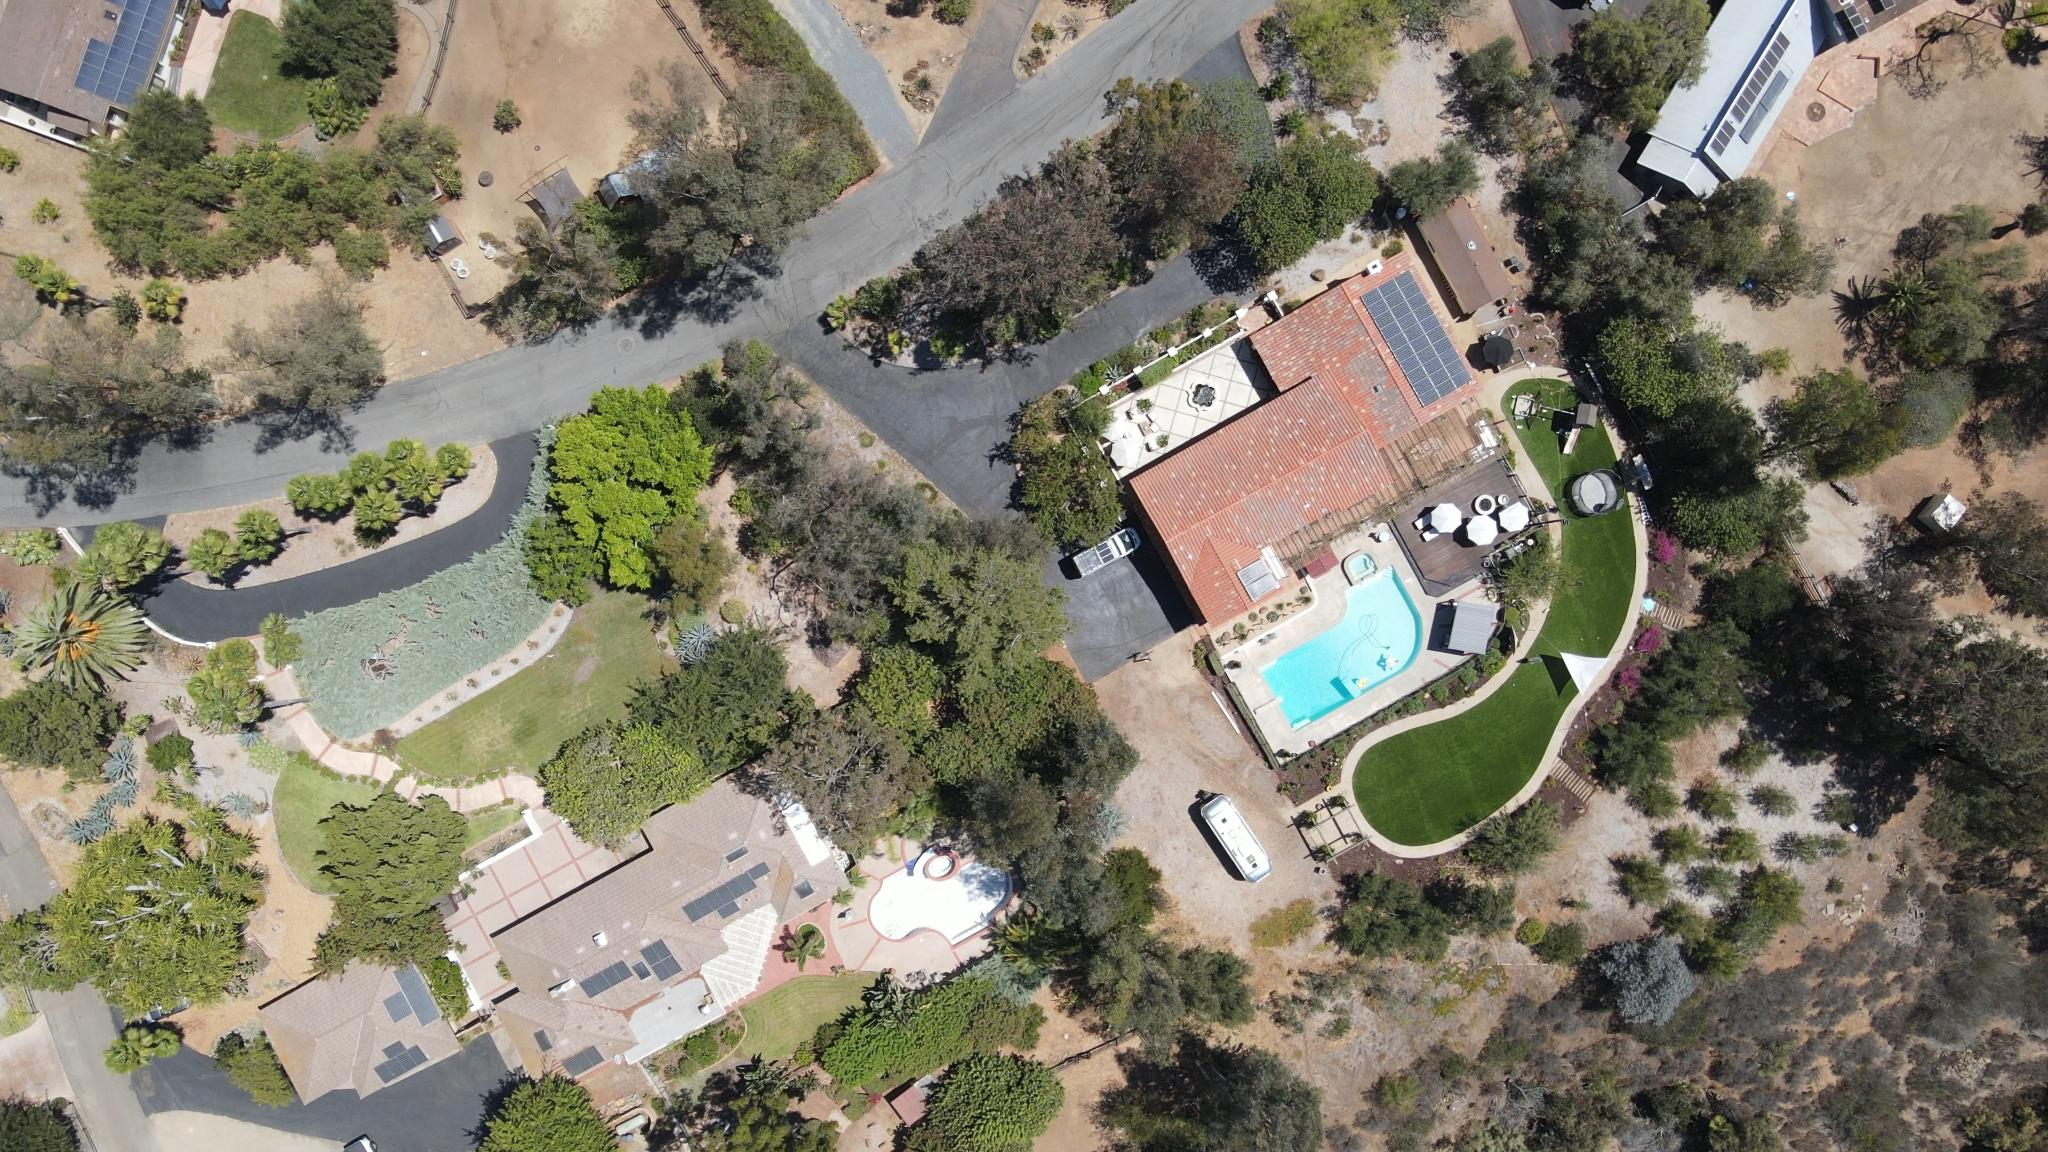solar-panels: (1359, 267, 1473, 408), (72, 0, 176, 111), (1730, 31, 1791, 125), (681, 861, 771, 924), (381, 961, 443, 1027), (374, 1039, 429, 1084), (578, 959, 634, 1000), (640, 937, 684, 982), (560, 1044, 605, 1079), (1710, 118, 1737, 158)
